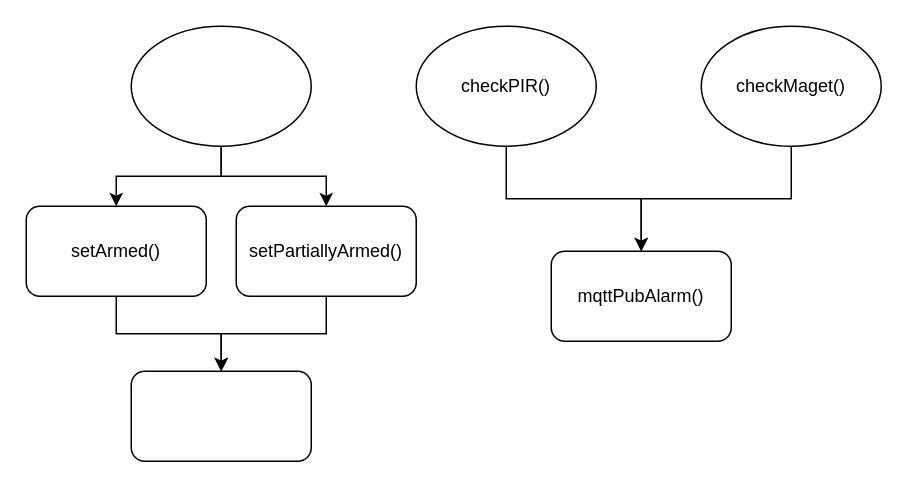
Image size: 908x488. Some labels were removed from this diagram. The centre of each missing label's shape, as x and y in pixels:
mqttPubArmed(): point 220,415
mqttSub(): point 220,85
